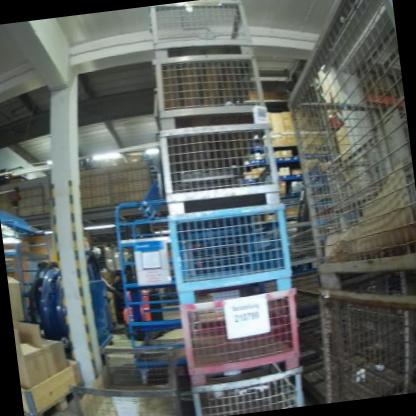pallet: (21, 382, 84, 416)
pallet_truck: (121, 280, 162, 334)
stillage: (272, 0, 416, 295), (163, 199, 297, 303), (309, 273, 416, 403), (174, 286, 309, 385), (154, 121, 280, 216), (145, 41, 268, 130), (63, 333, 189, 416), (141, 0, 259, 67), (189, 361, 309, 416), (266, 303, 338, 392), (245, 215, 326, 276)
